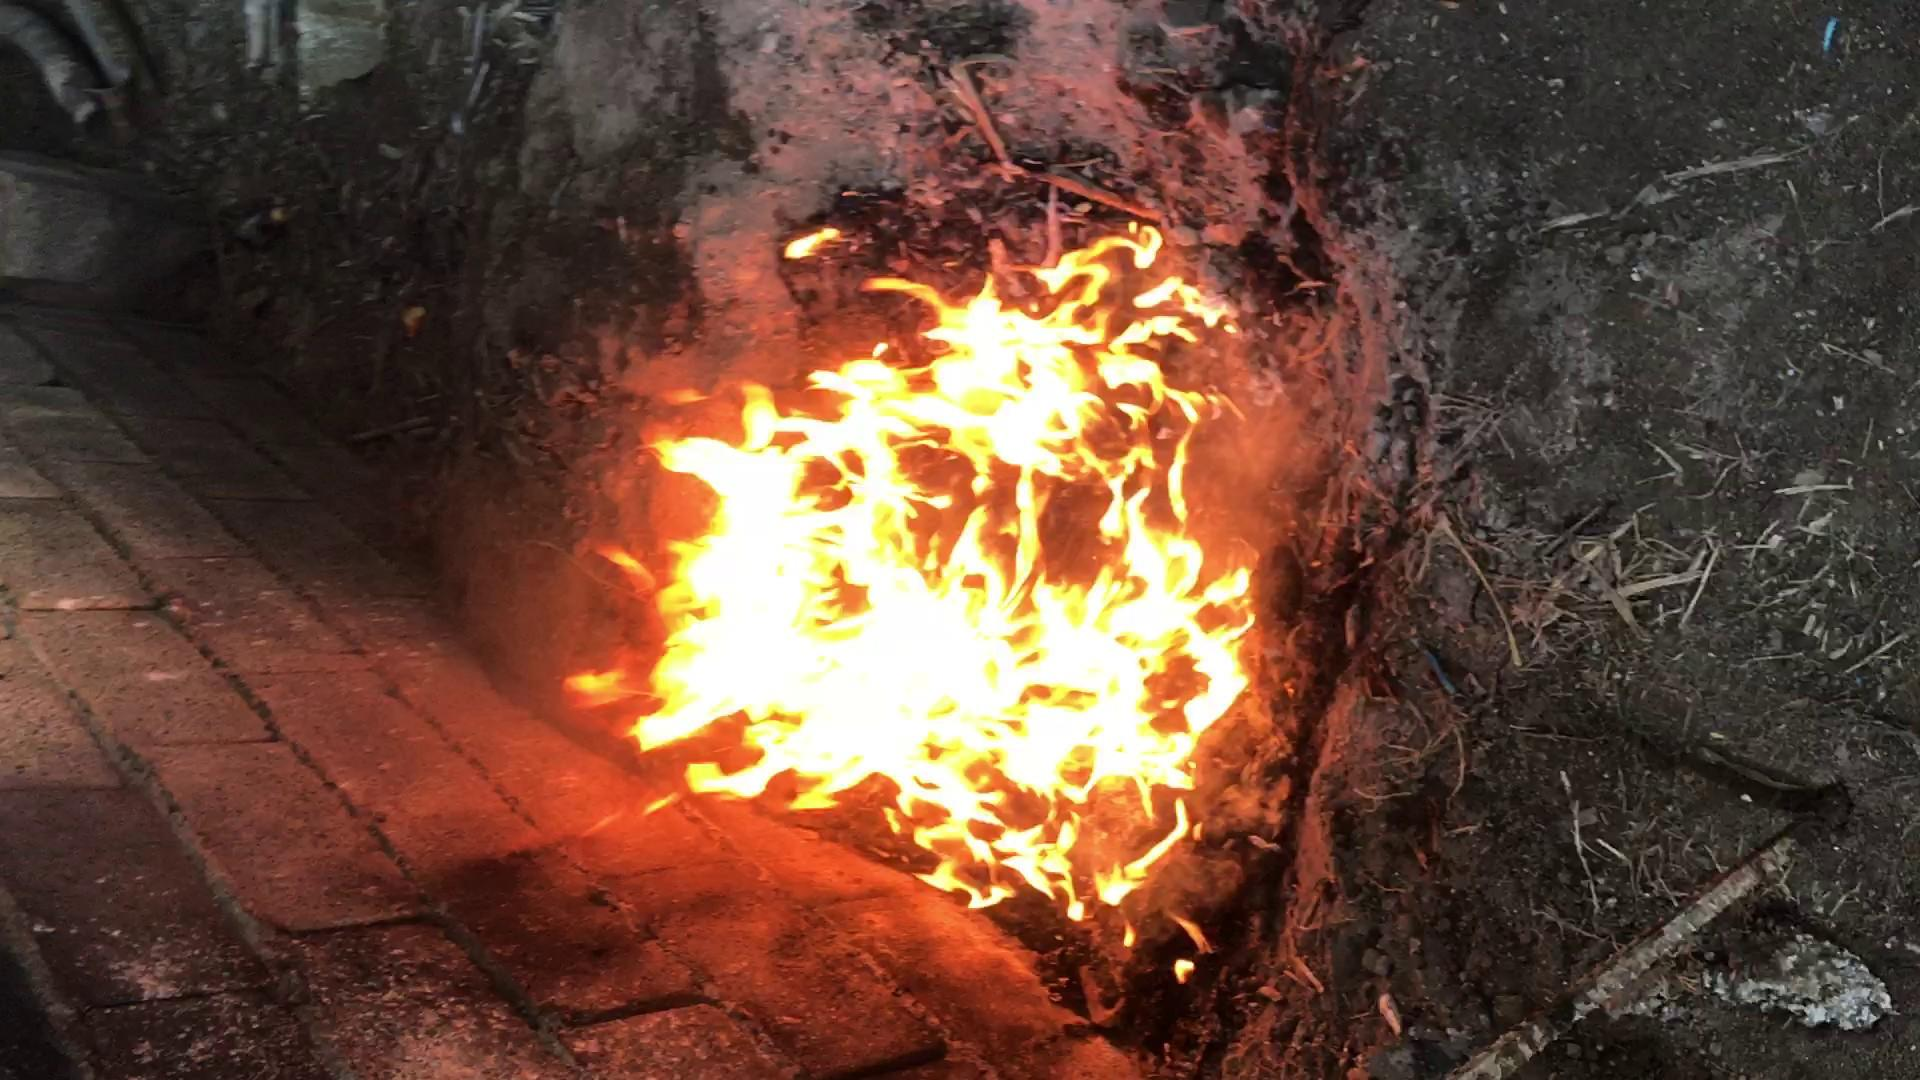fire: (272, 310, 1476, 679)
